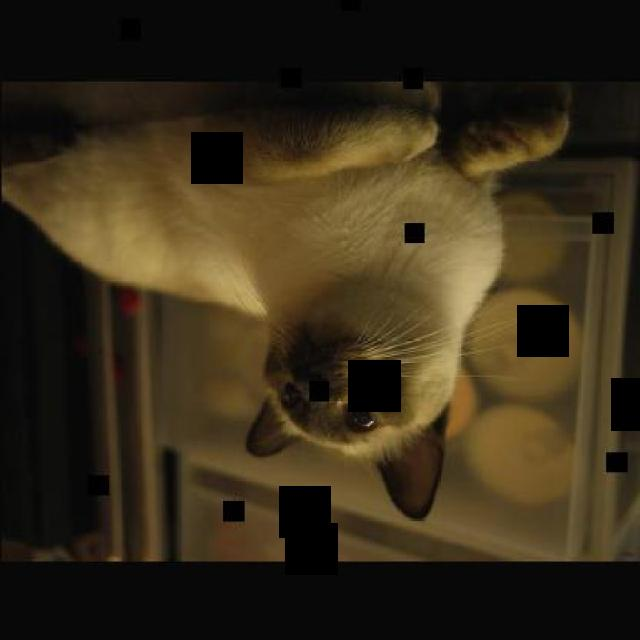unauthorized: (0, 78, 574, 517)
